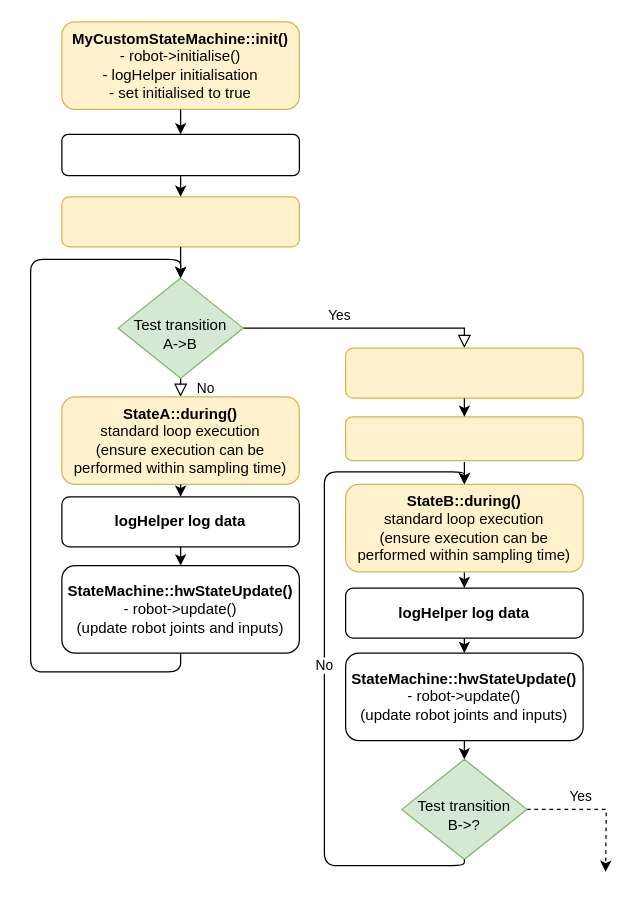
This 639x904 diagram has some shape labels left out. Here are the shapes that lost their labels. From the top down, the box of each, then its label:
(61, 133, 299, 176): StateMachine::activate()
(61, 196, 299, 247): StateA::entry()
(344, 347, 583, 398): StateA::exit()
(344, 416, 583, 461): StateB::entry()
